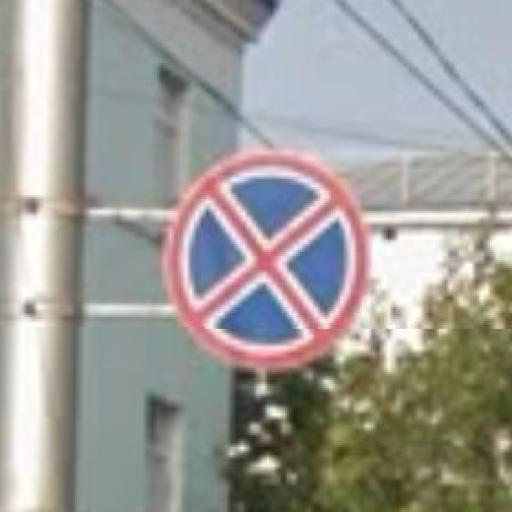traffic_sign: (164, 149, 367, 371)
